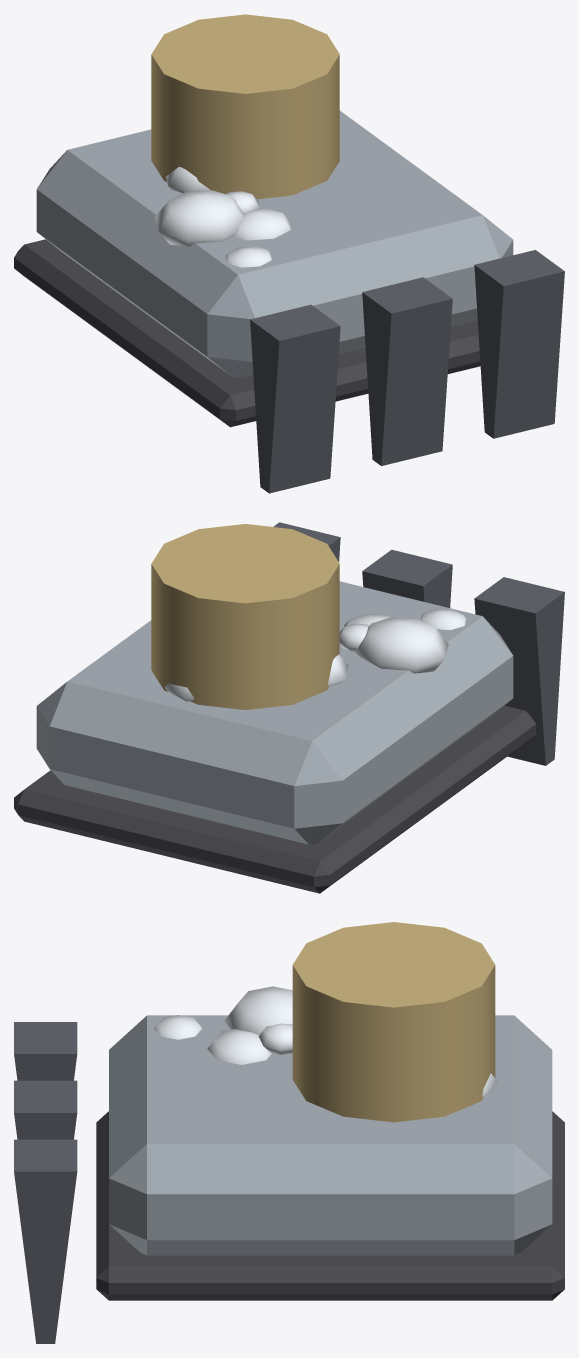
File: restorer_foot.glb
3 renders of one model, top to bottom at view 1: azimuth 30°, elevation 25°; view 2: azimuth 150°, elevation 25°; view 3: azimuth 270°, elevation 25°, orthographic. The views are drawn at different scales.
Parts seen in each view (by area): view 1: rs_steel*0.9, rs_brass, rs_rubber, rs_dark.001, rs_dark, rs_dark.002, rs_frost, rs_frost.001, rs_frost.003, rs_frost.002; view 2: rs_steel*0.9, rs_brass, rs_rubber, rs_dark, rs_frost, rs_dark.001, rs_frost.003, rs_frost.004, rs_dark.002; view 3: rs_steel*0.9, rs_brass, rs_rubber, rs_dark.002, rs_dark.001, rs_dark, rs_frost, rs_frost.001, rs_frost.004, rs_frost.003.
Boxes of the visible parts, x1,y1,x2,y2 form: rs_steel*0.9: [36, 110, 513, 378]; rs_brass: [151, 14, 339, 199]; rs_rubber: [14, 239, 480, 427]; rs_dark.001: [362, 277, 452, 465]; rs_dark: [250, 304, 340, 493]; rs_dark.002: [474, 250, 564, 438]; rs_frost: [155, 190, 244, 246]; rs_frost.001: [233, 208, 290, 240]; rs_frost.003: [225, 246, 271, 267]; rs_frost.002: [166, 166, 210, 193]; rs_steel*0.9: [36, 581, 513, 844]; rs_brass: [151, 524, 339, 710]; rs_rubber: [14, 705, 535, 893]; rs_dark: [474, 577, 564, 765]; rs_frost: [355, 617, 448, 673]; rs_dark.001: [362, 549, 452, 607]; rs_frost.003: [420, 608, 466, 630]; rs_frost.004: [339, 623, 369, 652]; rs_dark.002: [273, 522, 340, 561]; rs_steel*0.9: [109, 1015, 552, 1255]; rs_brass: [292, 922, 495, 1122]; rs_rubber: [96, 1111, 564, 1300]; rs_dark.002: [14, 1139, 77, 1343]; rs_dark.001: [14, 1080, 77, 1139]; rs_dark: [14, 1022, 77, 1080]; rs_frost: [224, 986, 292, 1035]; rs_frost.001: [207, 1029, 271, 1064]; rs_frost.004: [258, 1023, 292, 1055]; rs_frost.003: [154, 1015, 201, 1039].
Bounding box in the file's own units: 0.62 × 0.53 × 0.87.
